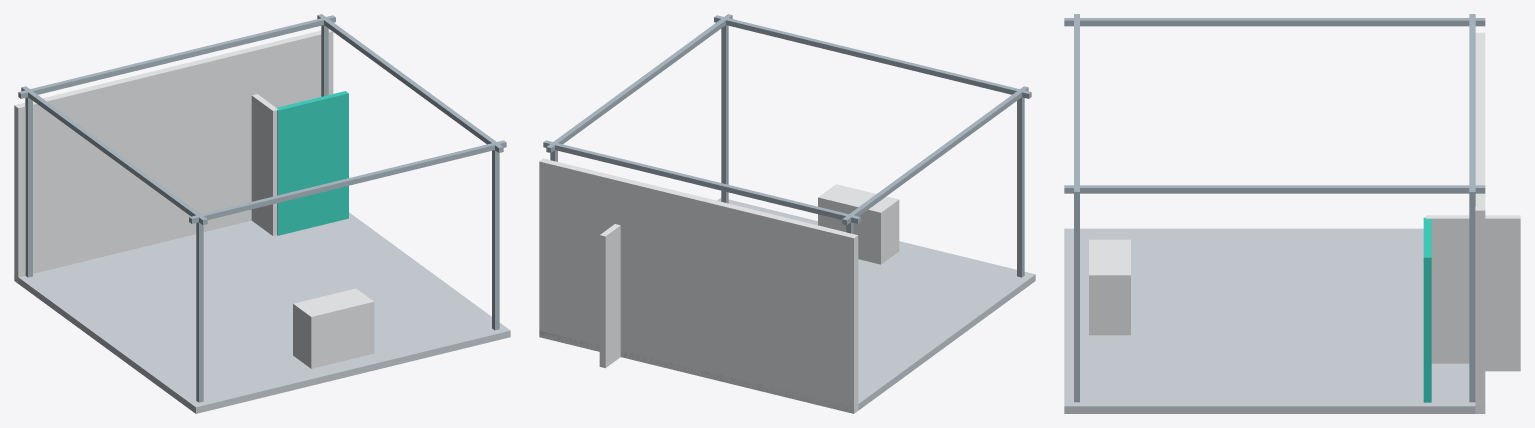
3 views of the same model, side by side, from view 1: azimuth 30°, elevation 25°; view 2: azimuth 150°, elevation 25°; view 3: azimuth 270°, elevation 25° (orthographic). The views are drawn at different scales.
Visible parts, largest first — view 1: Exhibition Booth Concept; view 2: Exhibition Booth Concept; view 3: Exhibition Booth Concept.
Boxes of the visible parts, x1,y1,x2,y2 form: Exhibition Booth Concept: (14,14,510,413); Exhibition Booth Concept: (539,14,1035,413); Exhibition Booth Concept: (1064,14,1520,413).
Size of the model in its own units: 6 by 3.49 by 6.51.
